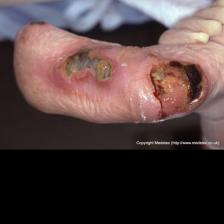Wound: (143, 54, 215, 121), (54, 44, 121, 86)
